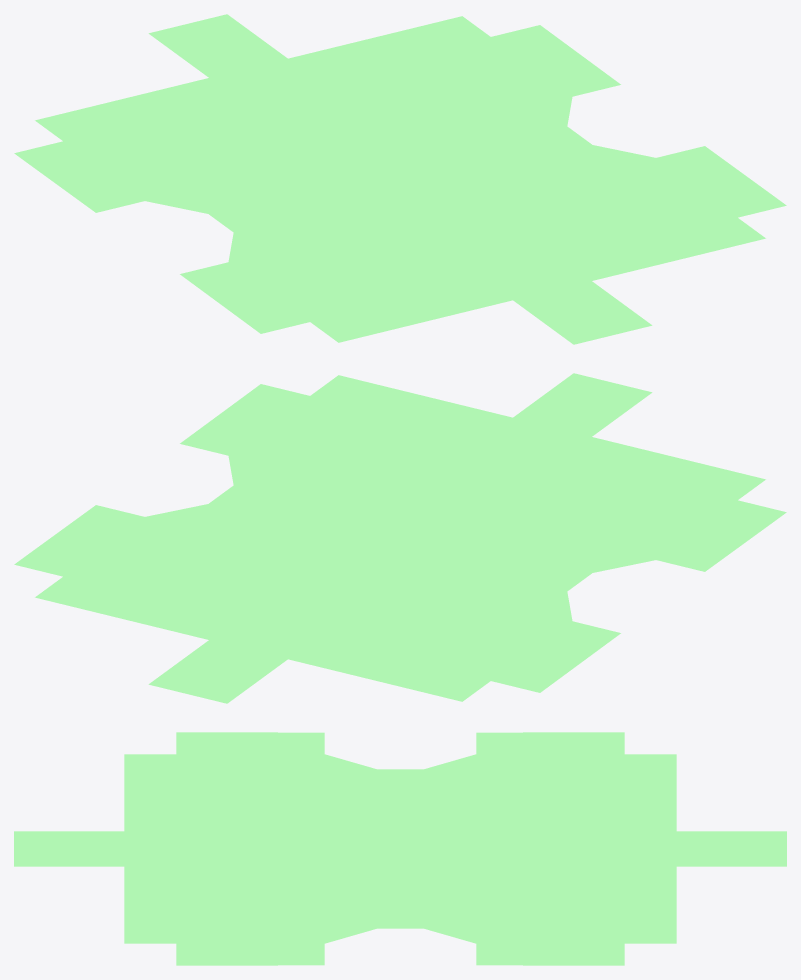
File: s04b_ib1-floor.glb
3 views of the same model, one above another, from view 1: azimuth 30°, elevation 25°; view 2: azimuth 150°, elevation 25°; view 3: azimuth 270°, elevation 25° (orthographic). The views are drawn at different scales.
Parts seen in each view (by area): view 1: collision_floor-colonly; view 2: collision_floor-colonly; view 3: collision_floor-colonly.
Boxes of the visible parts, <box> form: collision_floor-colonly: <box>15,14,785,344</box>; collision_floor-colonly: <box>15,373,785,703</box>; collision_floor-colonly: <box>14,732,786,965</box>.
Bounding box in the file's own units: 39.98 × 0 × 56.
